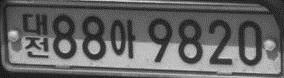0: (237, 19, 262, 66)
2: (207, 19, 233, 64)
8: (177, 19, 203, 64), (52, 13, 77, 59), (81, 15, 106, 60)
9: (147, 17, 173, 63)
대전_V: (22, 12, 49, 58)
아: (110, 18, 135, 59)
